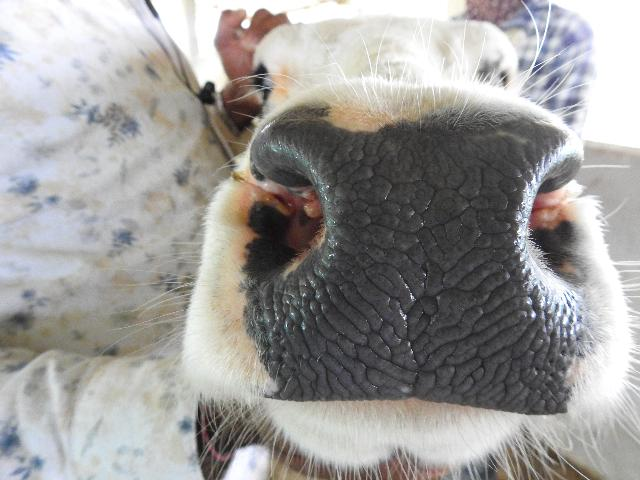Muzzle: (279, 115, 557, 401)
